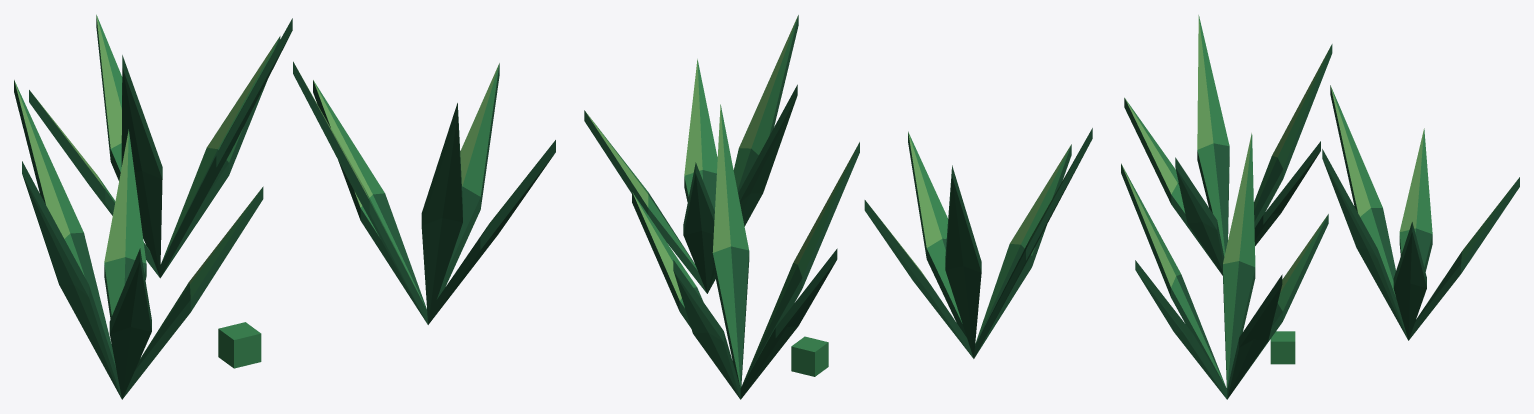
The model's file is garlic_stage_02.fbx.
The picture shows the model from 3 angles, left to right: view 1: azimuth 30°, elevation 25°; view 2: azimuth 150°, elevation 25°; view 3: azimuth 270°, elevation 25°; orthographic projection. The views are drawn at different scales.
Parts seen in each view (by area): view 1: garlic_stage_02__Foliage, garlic_stage_02__Origin; view 2: garlic_stage_02__Foliage, garlic_stage_02__Origin; view 3: garlic_stage_02__Foliage, garlic_stage_02__Origin.
Part boxes in pixels (left/top/right/bottom): garlic_stage_02__Foliage: left=14, top=14, right=555, bottom=399; garlic_stage_02__Origin: left=218, top=322, right=261, bottom=368; garlic_stage_02__Foliage: left=584, top=15, right=1092, bottom=399; garlic_stage_02__Origin: left=791, top=336, right=828, bottom=376; garlic_stage_02__Foliage: left=1121, top=15, right=1519, bottom=399; garlic_stage_02__Origin: left=1270, top=331, right=1295, bottom=364.
Bounding box in the file's own units: 0.7805 × 0.428 × 0.6435.
Materials: 1 (1 with a texture image).
